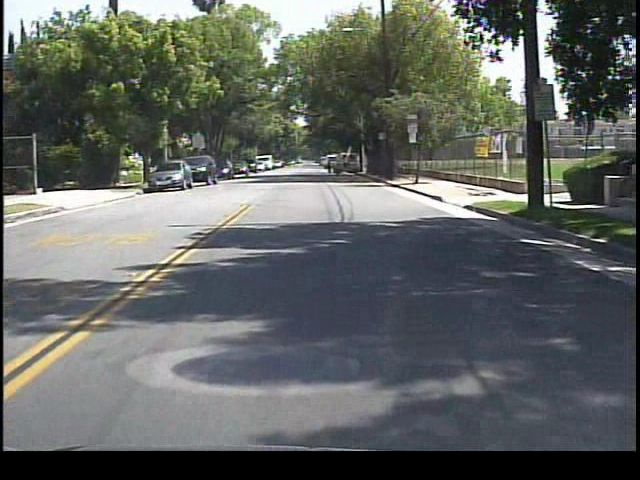person: (322, 154, 337, 179)
